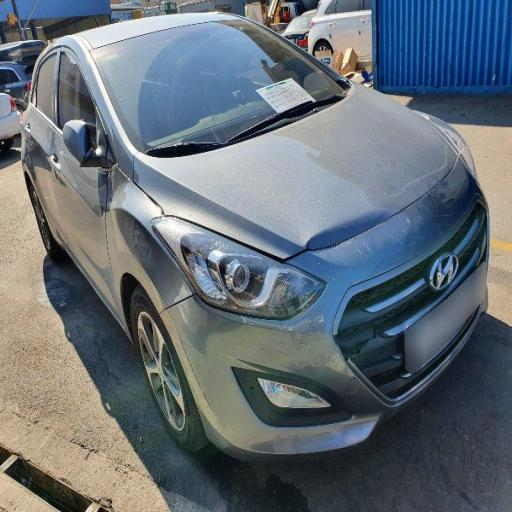dent: (56, 155, 173, 292)
scratch: (205, 249, 358, 406), (371, 177, 471, 247)
